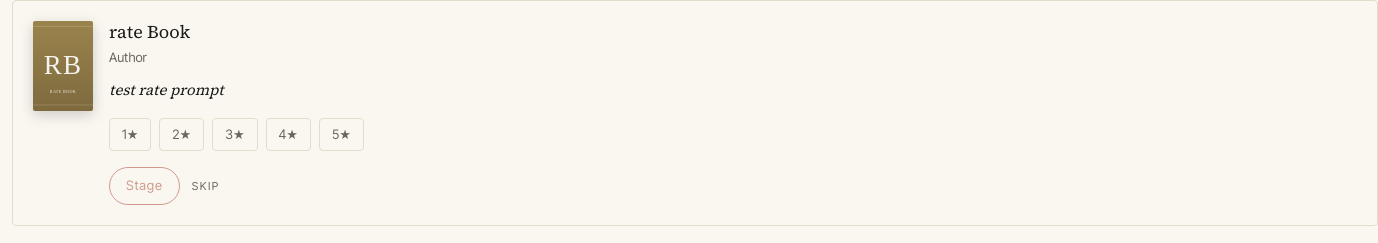
Scenario: BackfillCards — staging UI › Skip dismisses a card without touching the network
What coordinates should you click on to do the following:
click the button "Skip"
I would click on:
 (206, 186)
Its box is [192, 178, 220, 194].
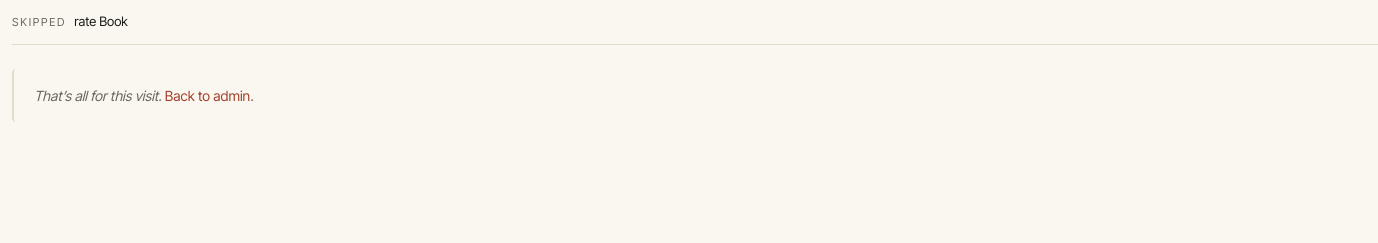
Now the text "skipped" is shown, box [12, 15, 66, 29]
